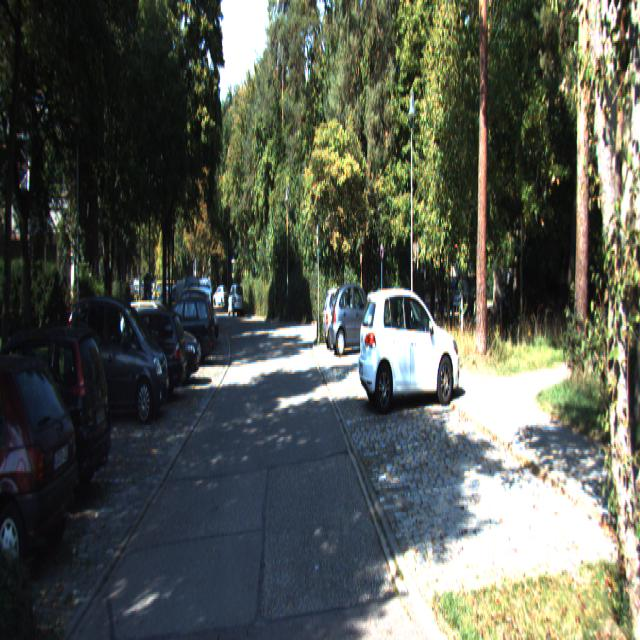Car: (0, 318, 113, 522), (0, 343, 81, 584), (59, 292, 167, 432), (356, 285, 461, 413), (90, 306, 186, 409), (113, 303, 198, 397), (152, 292, 214, 368), (329, 278, 383, 355), (227, 284, 244, 317)
